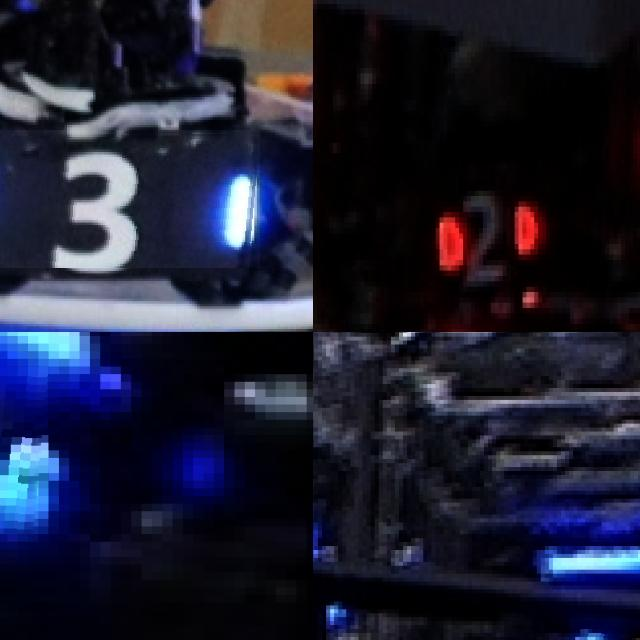B2: (569, 617, 640, 640)
B3: (0, 129, 259, 268)
B4: (0, 366, 48, 534)
R2: (428, 180, 538, 287)
